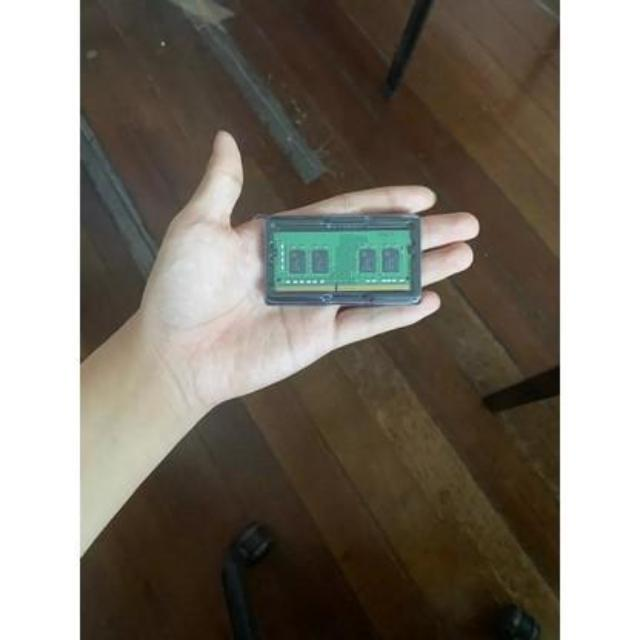RAM: (270, 225, 418, 300)
